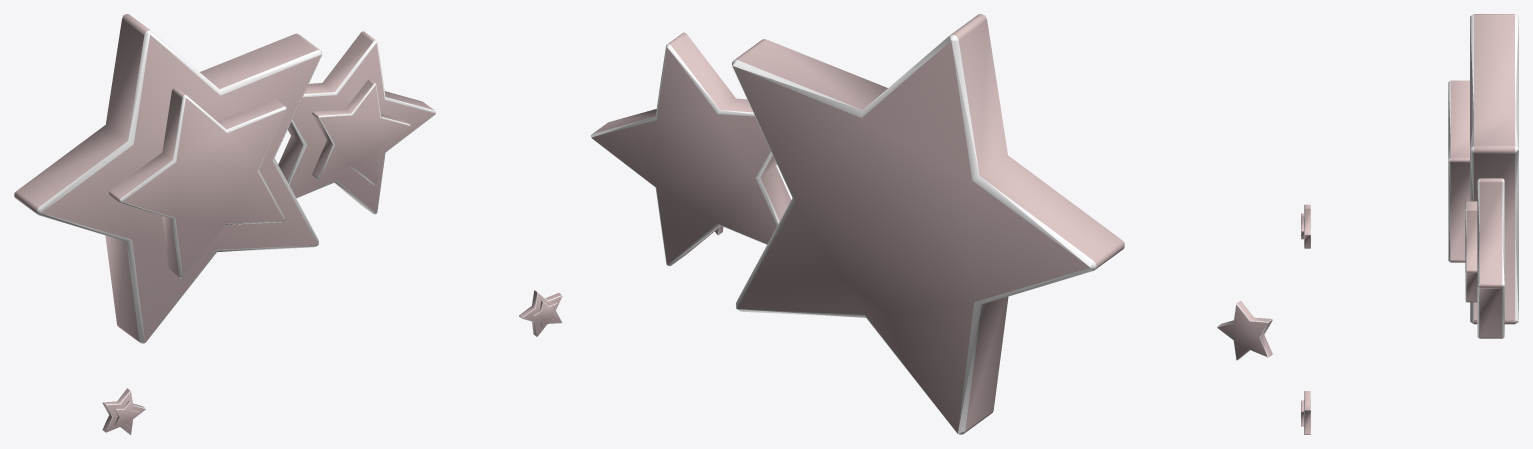
The model's file is xingxing.fbx.
3 views of the same model, side by side, from view 1: azimuth 30°, elevation 25°; view 2: azimuth 150°, elevation 25°; view 3: azimuth 270°, elevation 25° (orthographic). The views are drawn at different scales.
Parts seen in each view (by area): view 1: 挤压_5, 挤压_1_2, 挤压_6, 挤压_1, 挤压_1_3, 挤压_4; view 2: 挤压_5, 挤压_6, 挤压_4; view 3: 挤压_5, 挤压_6, 挤压_1_2, 挤压_1, 挤压_4, 挤压_1_3.
Boxes of the visible parts, bbox=[...] form: 挤压_5: bbox=[14, 14, 321, 343]; 挤压_1_2: bbox=[109, 87, 286, 278]; 挤压_6: bbox=[278, 31, 435, 214]; 挤压_1: bbox=[312, 79, 410, 185]; 挤压_1_3: bbox=[519, 290, 562, 336]; 挤压_4: bbox=[102, 388, 145, 434]; 挤压_5: bbox=[732, 14, 1124, 434]; 挤压_6: bbox=[591, 32, 790, 266]; 挤压_4: bbox=[1217, 301, 1272, 360]; 挤压_5: bbox=[1470, 14, 1518, 324]; 挤压_6: bbox=[1477, 178, 1504, 338]; 挤压_1_2: bbox=[1448, 80, 1469, 262]; 挤压_1: bbox=[1465, 201, 1477, 302]; 挤压_4: bbox=[1304, 204, 1310, 248]; 挤压_1_3: bbox=[1304, 391, 1310, 434].
Size of the model in its own units: 782 by 511 by 353.
